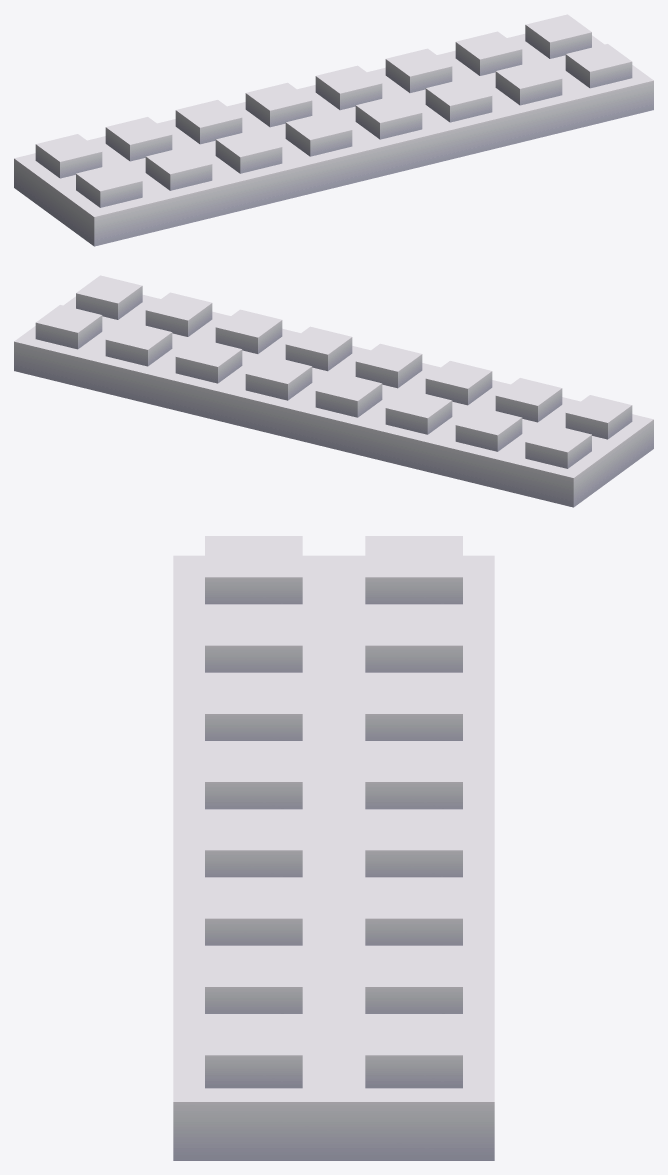
File: square-lq-plate-2x8.glb
The picture shows the model from 3 angles, top to bottom: view 1: azimuth 30°, elevation 25°; view 2: azimuth 150°, elevation 25°; view 3: azimuth 270°, elevation 25°; orthographic projection. The views are drawn at different scales.
Visible parts, largest first — view 1: square-lq-plate-2x8; view 2: square-lq-plate-2x8; view 3: square-lq-plate-2x8.
Part boxes in pixels (left/top/right/bottom): square-lq-plate-2x8: left=14, top=14, right=653, bottom=246; square-lq-plate-2x8: left=14, top=275, right=653, bottom=507; square-lq-plate-2x8: left=173, top=536, right=494, bottom=1160.
Bounding box in the file's own units: 0.636 × 0.05 × 0.158.
Materials: 1 (1 with a texture image).
